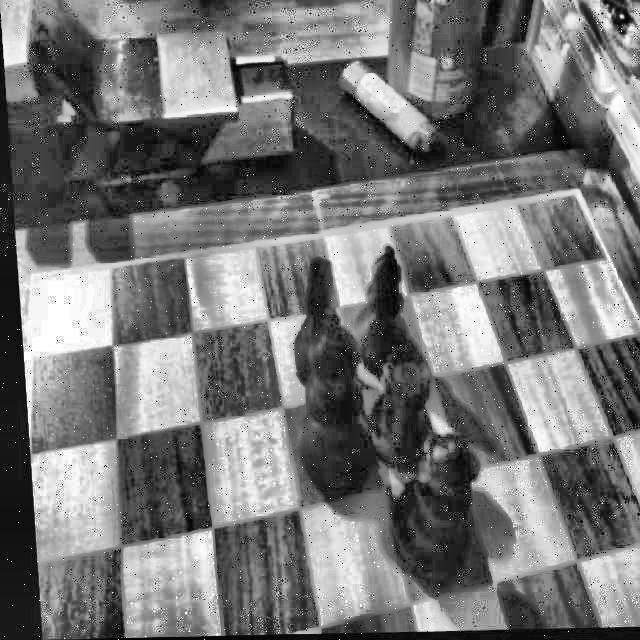black-bishop: (342, 241, 406, 366)
black-king: (274, 310, 368, 502)
black-knight: (281, 258, 336, 374)
black-queen: (370, 426, 480, 582)
black-rook: (353, 347, 433, 472)
